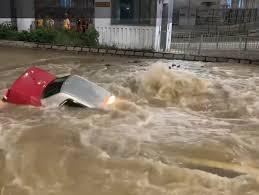water: (0, 49, 257, 194)
